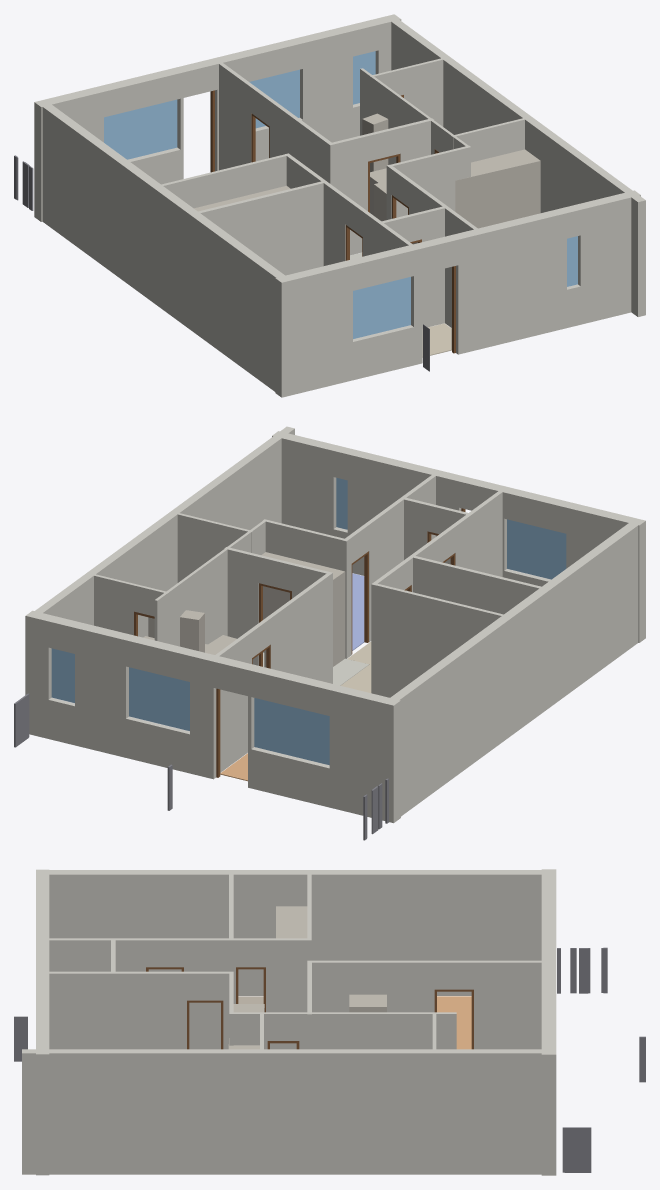
The picture shows the model from 3 angles, top to bottom: view 1: azimuth 30°, elevation 25°; view 2: azimuth 150°, elevation 25°; view 3: azimuth 270°, elevation 25°; orthographic projection. The views are drawn at different scales.
Visible parts, largest first — view 1: walls, furniture_3_closet, window_3, window_12, window_0, railings, floor_9_Entry, window_1, furniture_0_closet; view 2: walls, window_3, window_0, window_12, furniture_3_closet, railings, window_1, furniture_0_closet, floor_7_Bed_Room, floor_2_Entry, door_8, floor_1_Undefined (+1 smaller); view 3: walls, railings, floor_0_Living_Room, furniture_2_closet, furniture_1_closet, furniture_3_closet.
Part boxes in pixels (x1,y1,x2,y2): walls: [34, 14, 645, 397]; furniture_3_closet: [374, 149, 540, 228]; window_3: [104, 99, 177, 159]; window_12: [353, 277, 410, 338]; window_0: [249, 69, 299, 128]; railings: [14, 155, 429, 371]; floor_9_Entry: [422, 323, 451, 357]; window_1: [353, 51, 375, 104]; furniture_0_closet: [362, 113, 388, 172]; walls: [25, 426, 645, 823]; window_3: [254, 698, 329, 765]; window_0: [129, 667, 189, 730]; window_12: [507, 519, 566, 579]; furniture_3_closet: [261, 552, 345, 666]; railings: [14, 693, 388, 840]; window_1: [51, 648, 74, 702]; furniture_0_closet: [180, 610, 204, 652]; floor_7_Bed_Room: [352, 573, 364, 650]; floor_2_Entry: [341, 641, 371, 692]; door_8: [351, 551, 368, 654]; floor_1_Undefined: [263, 652, 368, 685]; walls: [22, 869, 556, 1175]; railings: [14, 947, 645, 1172]; floor_0_Living_Room: [437, 996, 471, 1049]; furniture_2_closet: [276, 906, 307, 938]; furniture_1_closet: [349, 994, 386, 1012]; furniture_3_closet: [228, 1004, 264, 1049].
Bounding box in the file's own units: 8.85 × 2.72 × 12.76.
